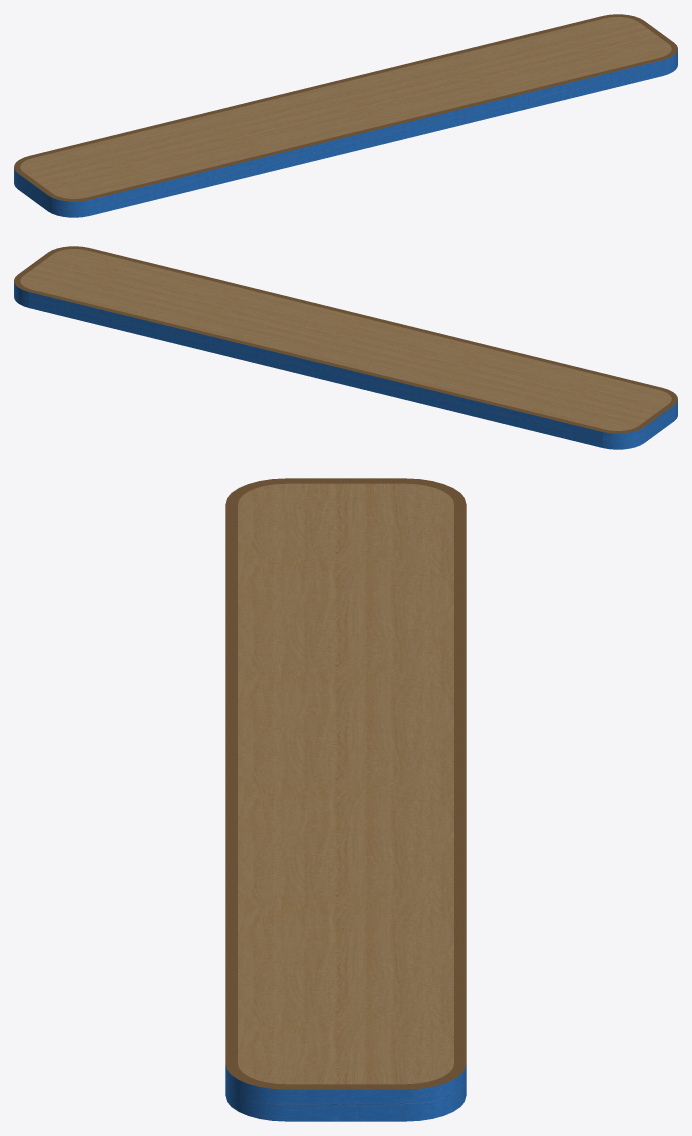
The model's file is ball selection _floor.FBX.
The picture shows the model from 3 angles, top to bottom: view 1: azimuth 30°, elevation 25°; view 2: azimuth 150°, elevation 25°; view 3: azimuth 270°, elevation 25°; orthographic projection. The views are drawn at different scales.
Parts seen in each view (by area): view 1: Line008, Object001, Object002; view 2: Line008, Object001, Object002; view 3: Line008, Object002, Object001.
Boxes of the visible parts, <box> form: Line008: <box>29,16,662,215</box>; Object001: <box>14,156,89,217</box>; Object002: <box>603,14,677,75</box>; Line008: <box>29,248,662,447</box>; Object001: <box>602,388,677,449</box>; Object002: <box>14,246,88,307</box>; Line008: <box>225,504,466,1063</box>; Object002: <box>225,1064,466,1121</box>; Object001: <box>225,478,466,503</box>.
Bounding box in the file's own units: 2400 × 58.62 × 400.
